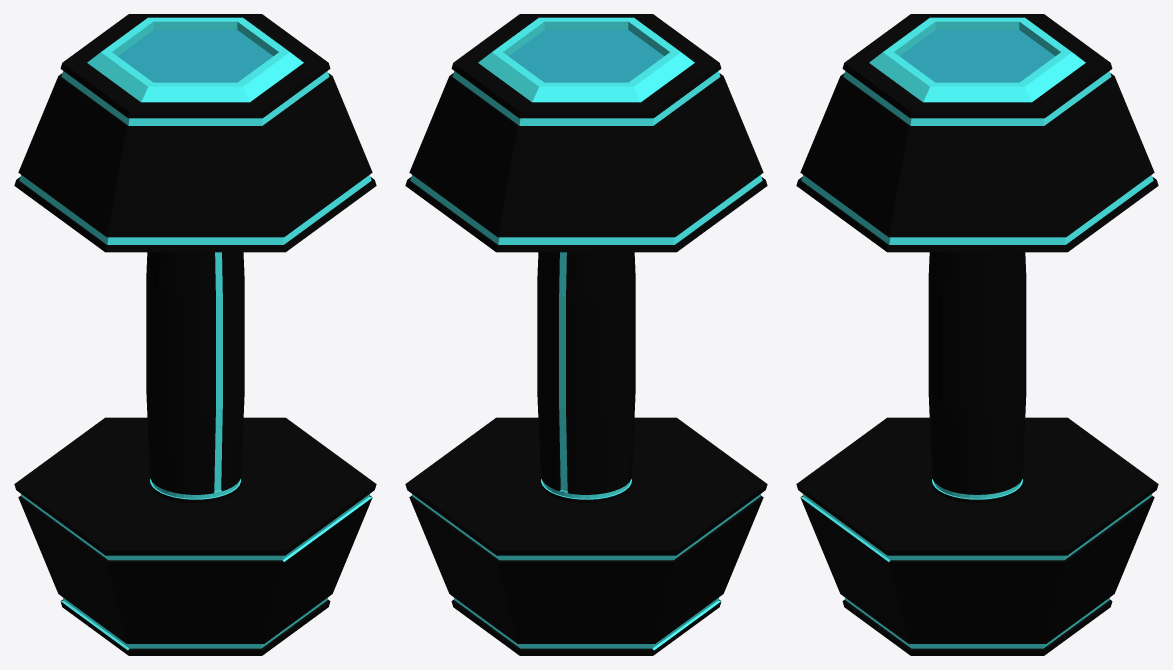
The model's file is Mancuerna_WL.fbx.
3 renders of one model, left to right at view 1: azimuth 30°, elevation 25°; view 2: azimuth 150°, elevation 25°; view 3: azimuth 270°, elevation 25°, orthographic.
Visible parts, largest first — view 1: Mancuerna_WL; view 2: Mancuerna_WL; view 3: Mancuerna_WL.
Boxes of the visible parts, x1,y1,x2,y2 form: Mancuerna_WL: (14,14,376,655); Mancuerna_WL: (405,14,767,655); Mancuerna_WL: (796,14,1158,655).
Bounding box in the file's own units: 13.86 × 27.57 × 16.
